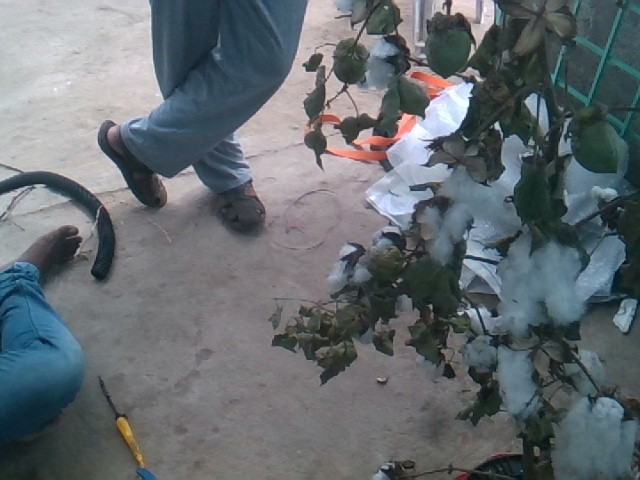cotton: (506, 235, 579, 332), (548, 399, 633, 480), (443, 165, 515, 235), (417, 204, 470, 264), (499, 347, 533, 423), (364, 36, 399, 94), (462, 335, 499, 373)
